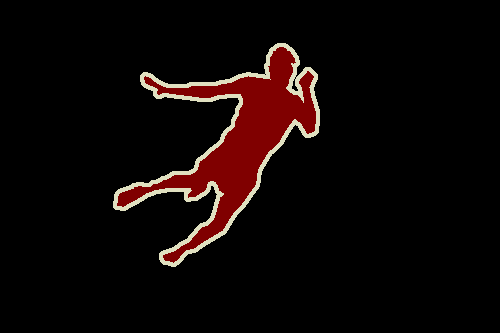person: (114, 46, 319, 285)
person/foot: (116, 185, 145, 210)
person/hand: (140, 74, 171, 97), (296, 71, 316, 91)
person/head: (267, 47, 299, 87)
